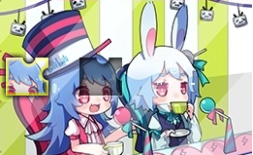gap: (79, 58, 122, 95)
